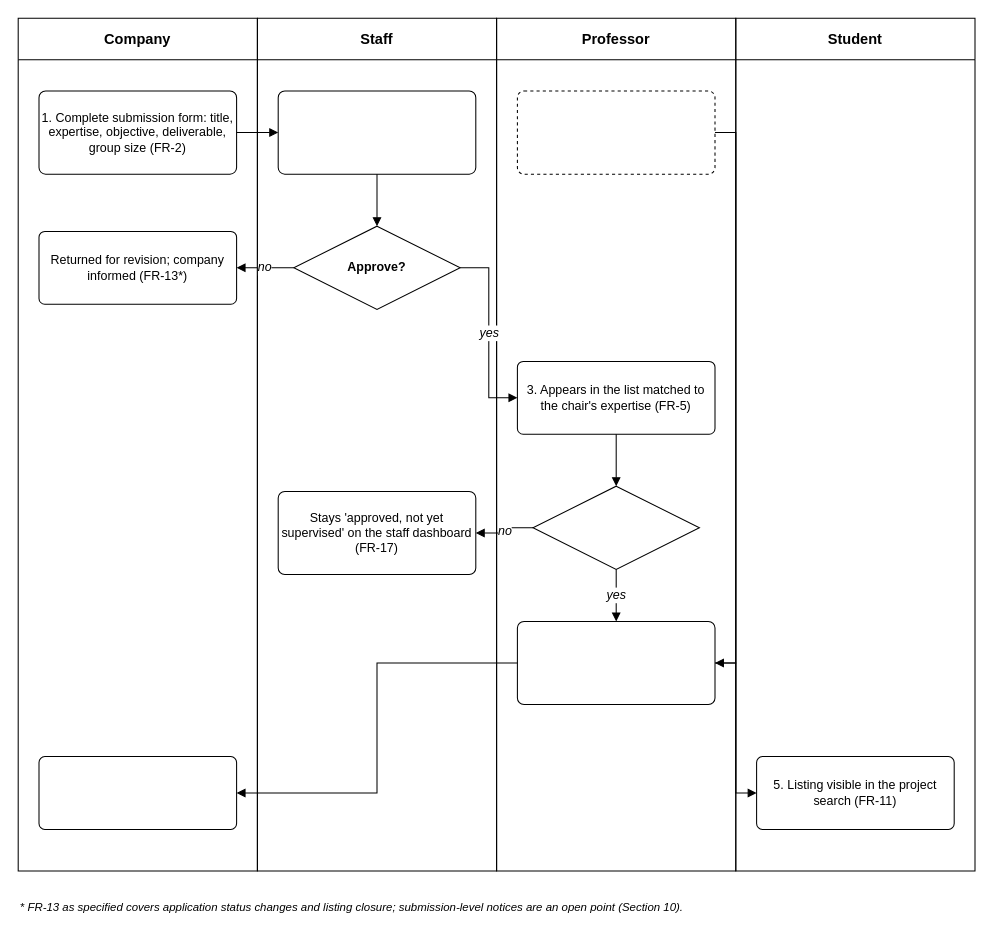
This 993x941 diagram has some shape labels left out. The box of each missing label's shape, as (x1, y1, x2, y2) in pixels:
2. Submission stored as 'pending'; queue filtered and searched (FR-3, FR-18): (277, 90, 476, 174)
4. Add chair contact, deadline and required documents; listing published (FR-6): (516, 620, 715, 705)
Alt. entry: professor submits a directly agreed project (FR-7): (516, 90, 715, 174)
Company informed that the project is supervised (FR-13*): (38, 756, 237, 829)
Take on?: (532, 485, 699, 569)
